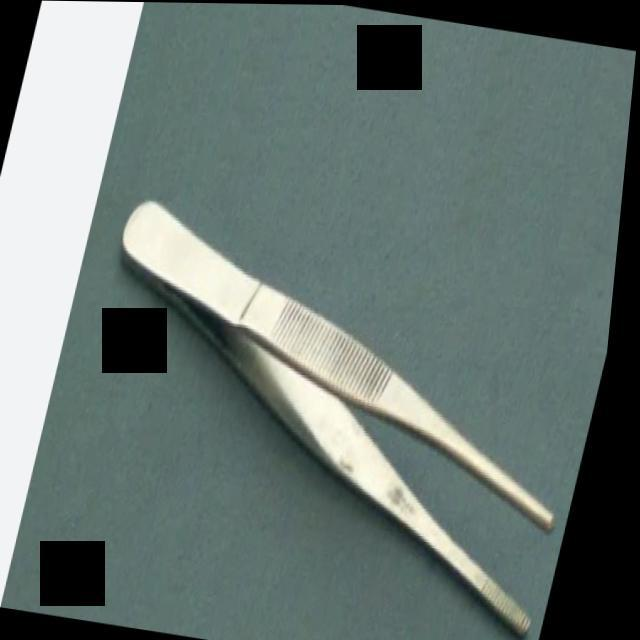Disscting Forceps -tooth-: (49, 178, 627, 640)
